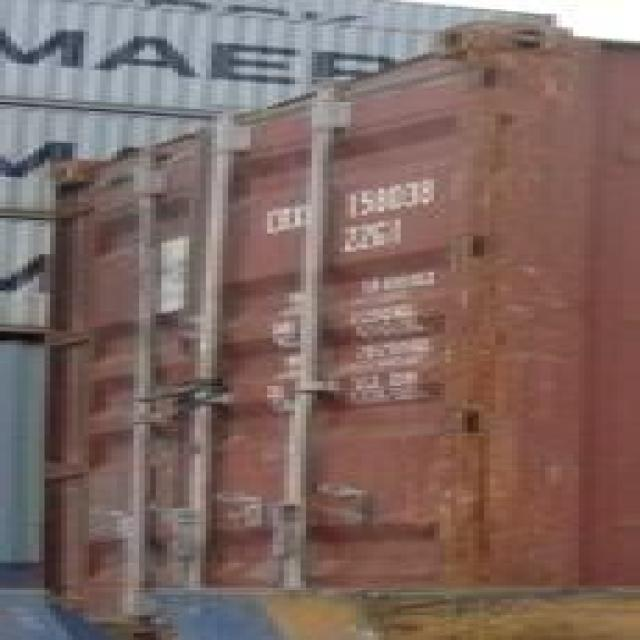dent: (257, 335, 335, 591)
